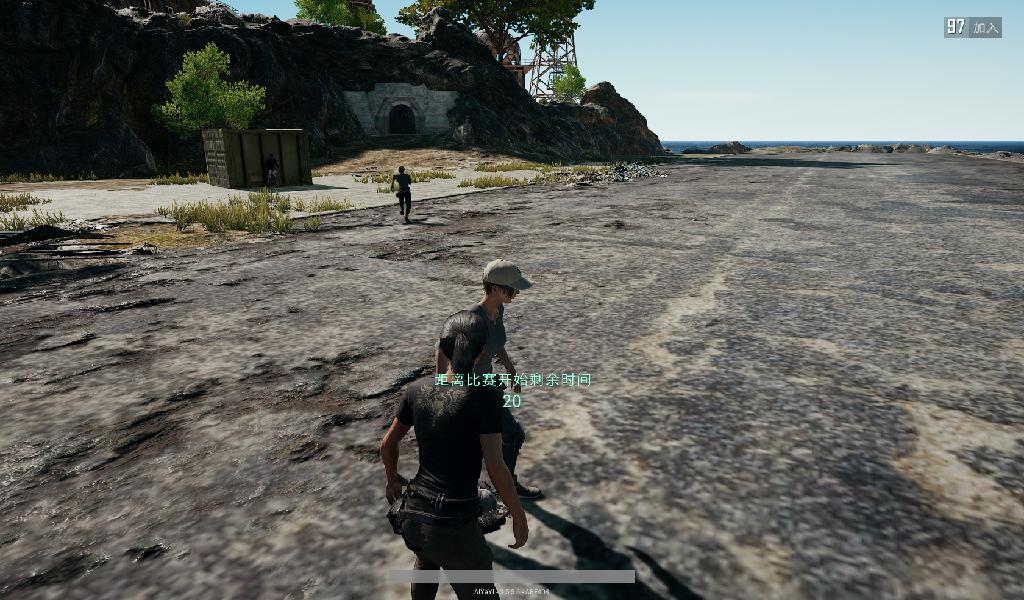Target Person: (390, 311, 531, 600), (454, 257, 543, 502), (390, 163, 413, 225)
